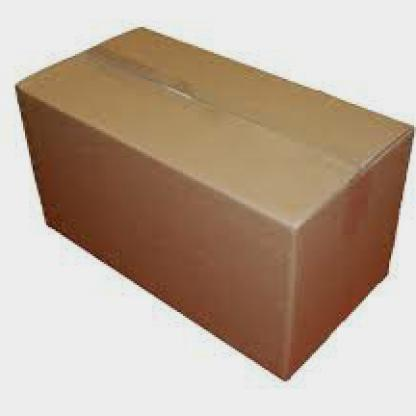package: (14, 27, 416, 380)
